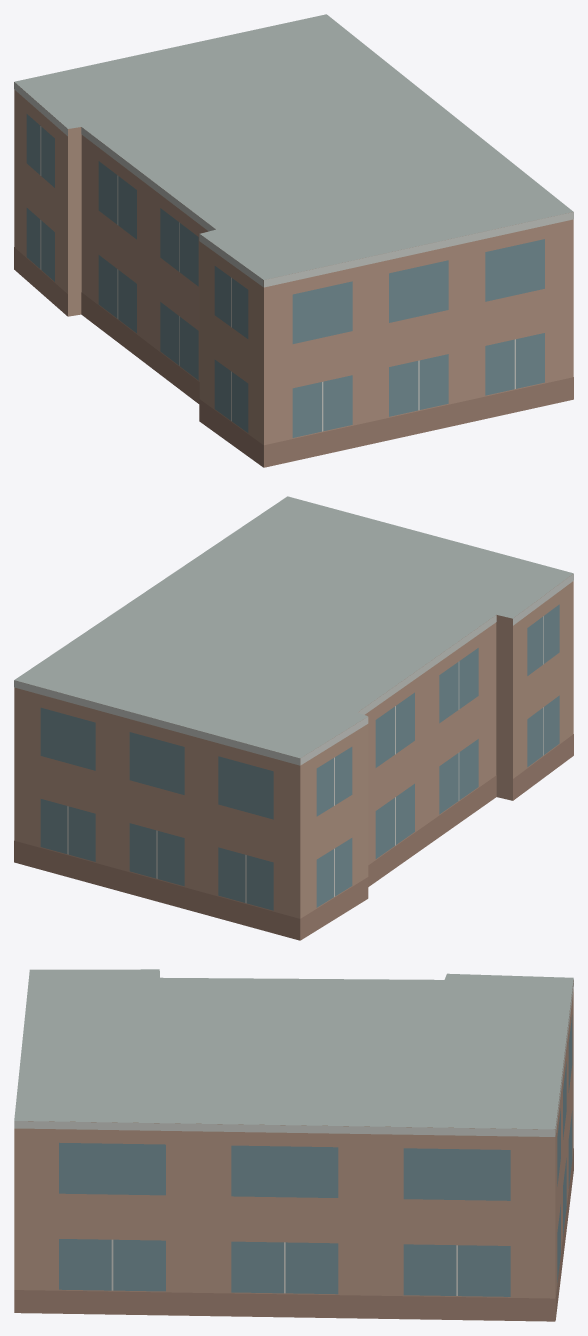
Rendered from survey-upis-32877345.glb.
3 views of the same model, one above another, from view 1: azimuth 30°, elevation 25°; view 2: azimuth 150°, elevation 25°; view 3: azimuth 270°, elevation 25° (orthographic). The views are drawn at different scales.
Parts seen in each view (by area): view 1: survey-upis-32877345.tmp; view 2: survey-upis-32877345.tmp; view 3: survey-upis-32877345.tmp.
Part boxes in pixels (x1=…): survey-upis-32877345.tmp: x1=14, y1=14, x2=573, y2=467; survey-upis-32877345.tmp: x1=14, y1=496, x2=573, y2=940; survey-upis-32877345.tmp: x1=14, y1=969, x2=573, y2=1321.
Bounding box in the file's own units: 10.91 × 6.1 × 16.12.
